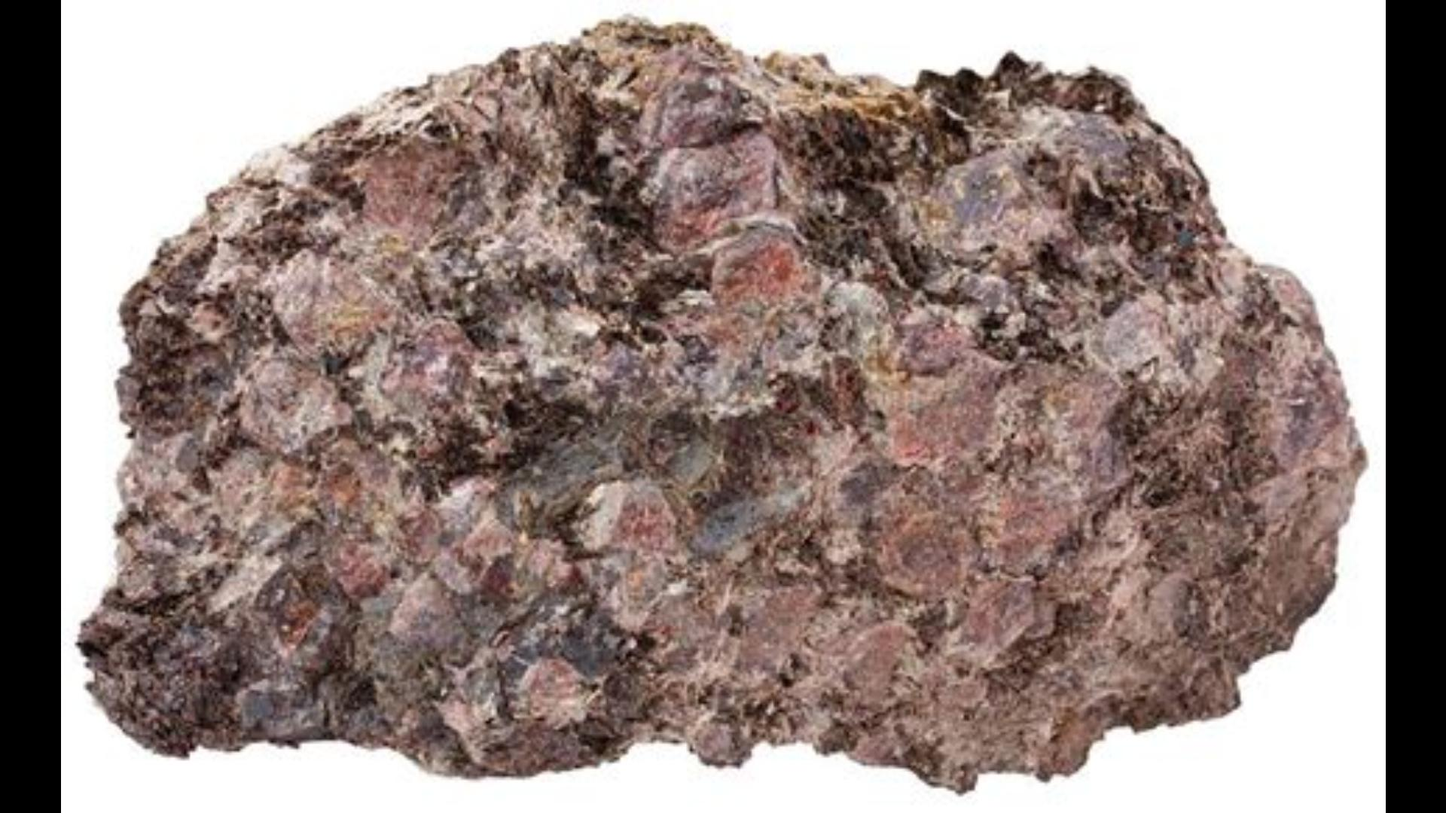rock: (80, 22, 1360, 785)
